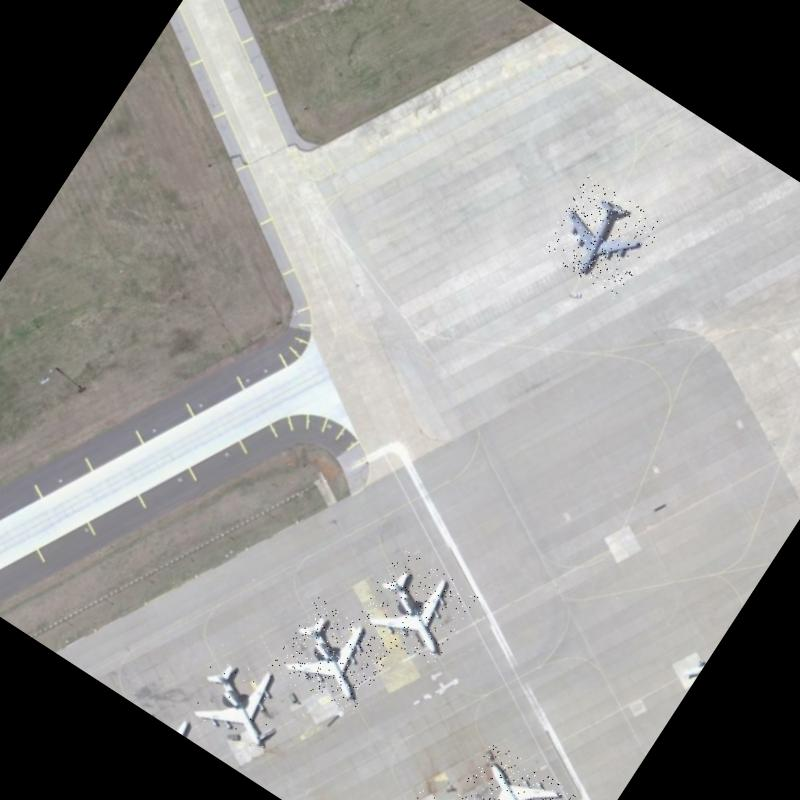A14: (538, 174, 665, 300)
A7: (354, 546, 478, 670), (180, 638, 304, 761), (272, 596, 396, 717), (445, 739, 578, 800)
